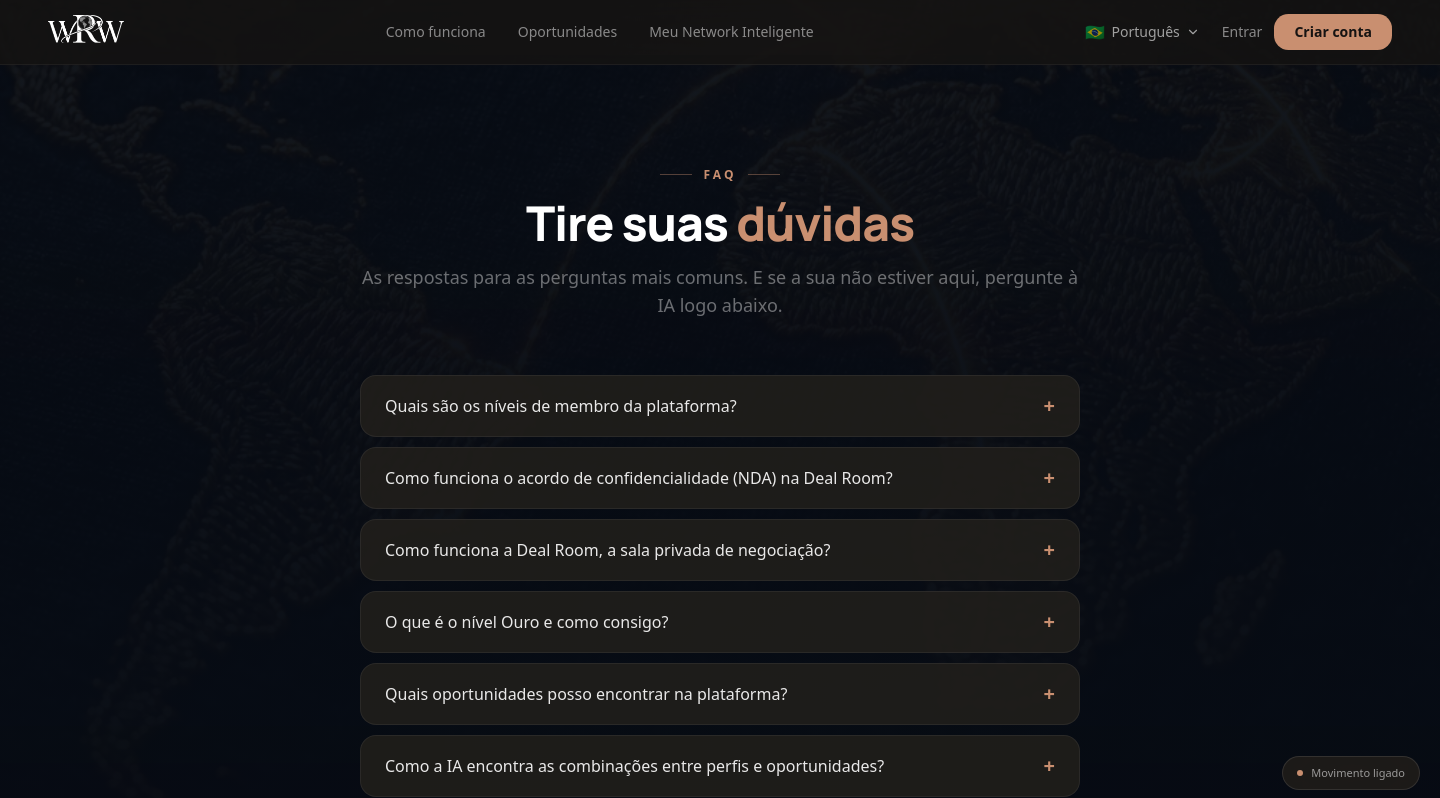
Test: Home — Governança (Bronze, Prata e Ouro) › a FAQ dos níveis acompanha o conceito novo
This screenshot has width=1440, height=798.
(page scrolled)
Click the button "Quais são os níveis de membro da plataforma? +": {"x": 720, "y": 406} top-left (361, 376), bottom-right (1079, 436)
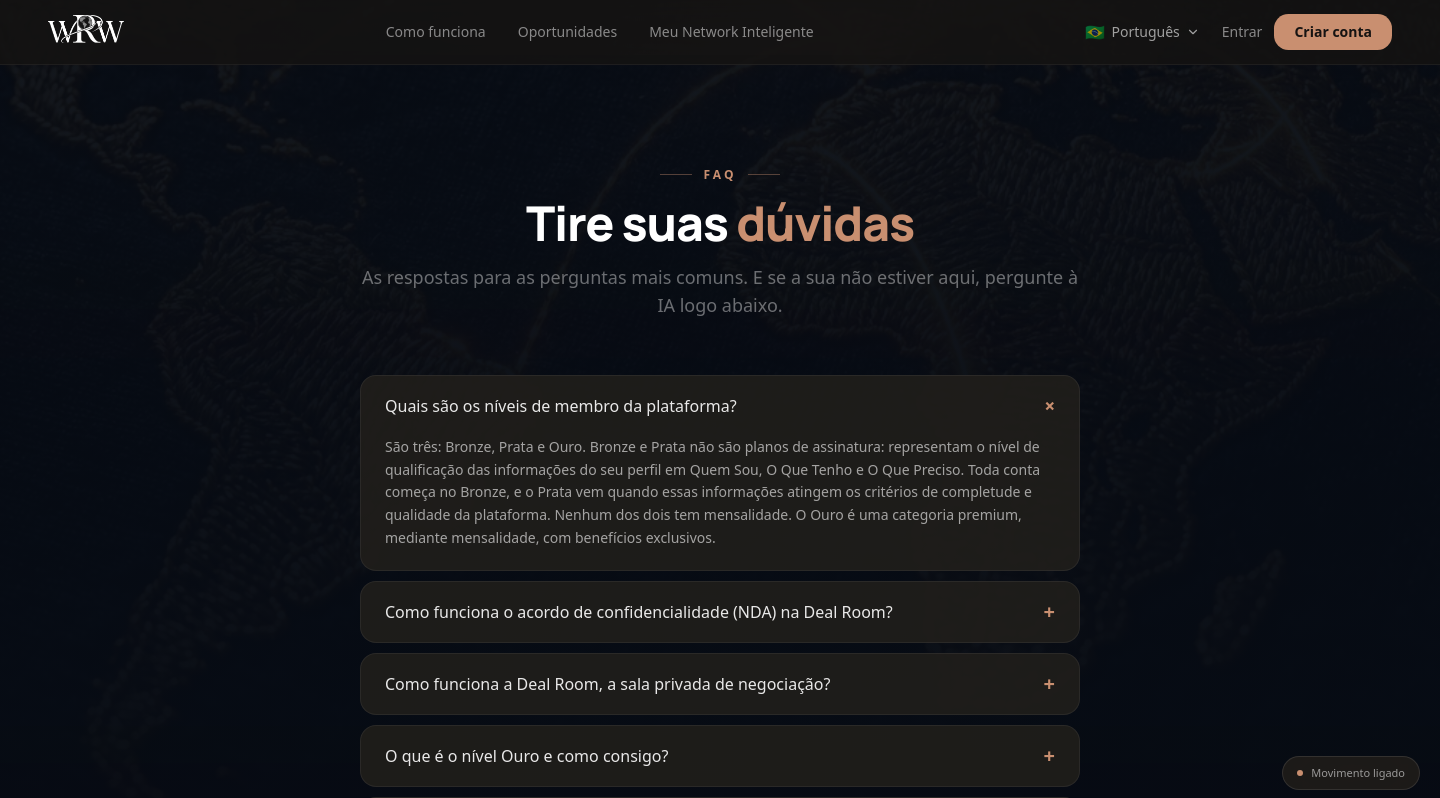
Expected: the text "São três: Bronze, Prata e Ouro." does not show "verificação de identidade", top-left (385, 436), bottom-right (1055, 550)
Expected: the text "São três: Bronze, Prata e Ouro." shows "Nenhum dos dois tem mensalidade.", top-left (385, 437), bottom-right (1040, 547)
Expected: the text "São três: Bronze, Prata e Ouro." shows "mediante mensalidade", top-left (385, 437), bottom-right (1040, 547)
Click the button "O que é o nível Ouro e como consigo? +": {"x": 527, "y": 756} top-left (361, 726), bottom-right (1079, 786)
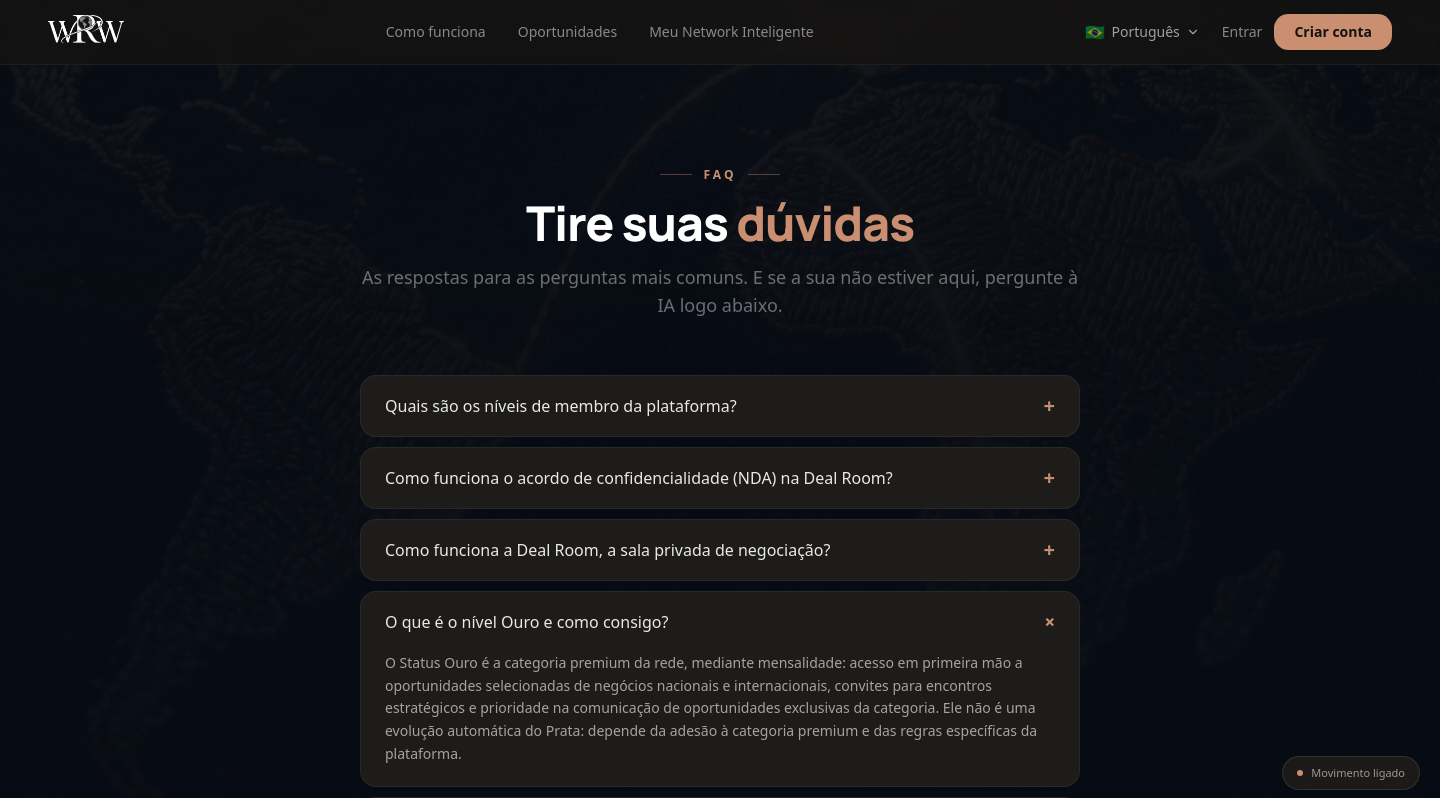
Expected: the text "O Status Ouro é a categoria premium da rede" does not show "mérito", top-left (385, 652), bottom-right (1055, 766)
Expected: the text "O Status Ouro é a categoria premium da rede" shows "não é uma evolução automática do Prata", top-left (385, 653), bottom-right (1037, 763)
